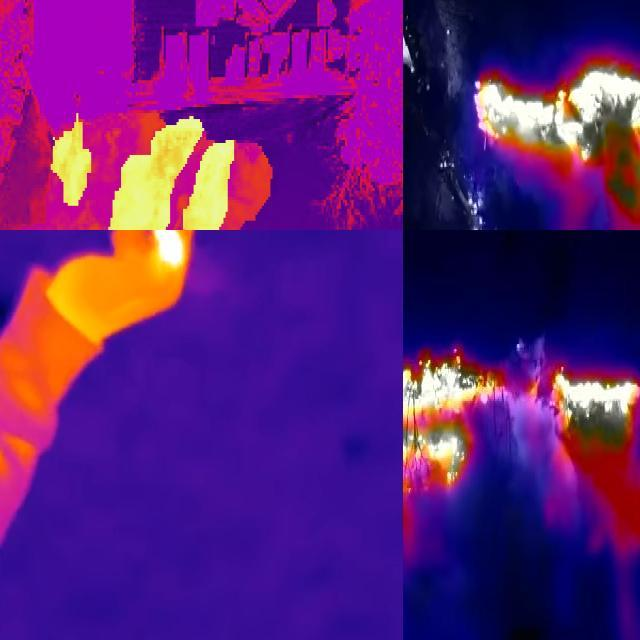fire: (476, 53, 640, 218), (49, 111, 239, 231), (405, 327, 508, 523), (535, 348, 640, 478), (151, 231, 187, 276)
